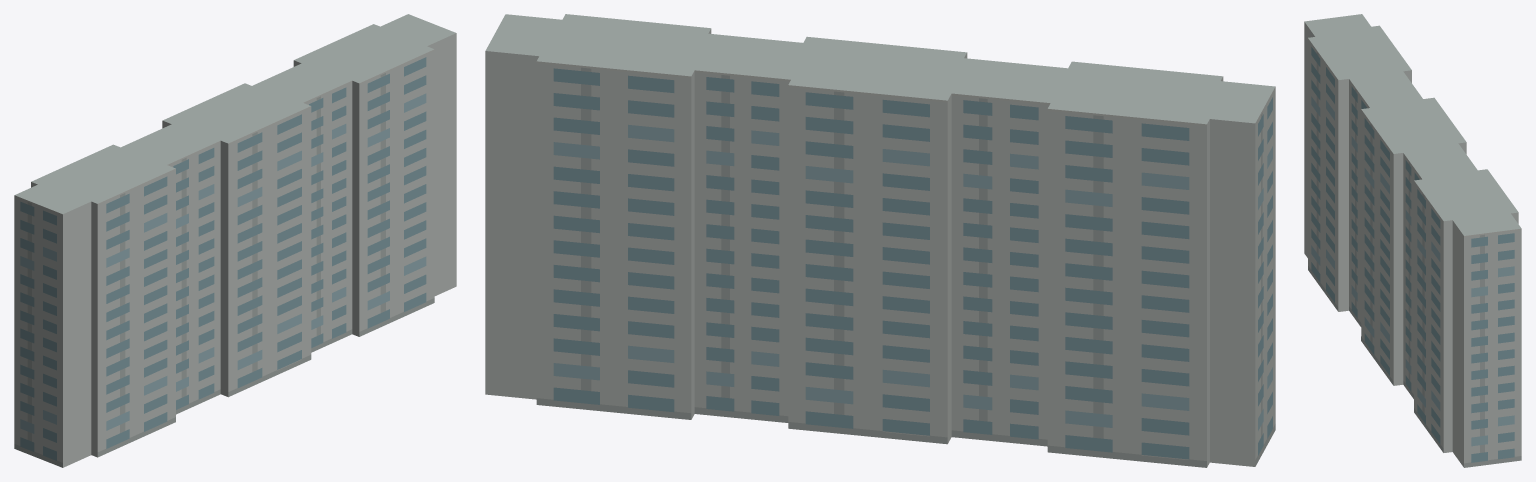
Rendered from residential-df8b6334-3b74-49ae-96cf-ba1f38c8a78b.glb.
3 renders of one model, left to right at view 1: azimuth 30°, elevation 25°; view 2: azimuth 150°, elevation 25°; view 3: azimuth 270°, elevation 25°, orthographic. The views are drawn at different scales.
Visible parts, largest first — view 1: residential-df8b6334-3b74-49ae-96cf-ba1f38c8a78b.tmp; view 2: residential-df8b6334-3b74-49ae-96cf-ba1f38c8a78b.tmp; view 3: residential-df8b6334-3b74-49ae-96cf-ba1f38c8a78b.tmp.
Part boxes in pixels (<box>): residential-df8b6334-3b74-49ae-96cf-ba1f38c8a78b.tmp: <box>14,14,456,467</box>; residential-df8b6334-3b74-49ae-96cf-ba1f38c8a78b.tmp: <box>485,14,1275,467</box>; residential-df8b6334-3b74-49ae-96cf-ba1f38c8a78b.tmp: <box>1304,14,1521,467</box>.
Bounding box in the file's own units: 87.7 × 42.7 × 36.29.
